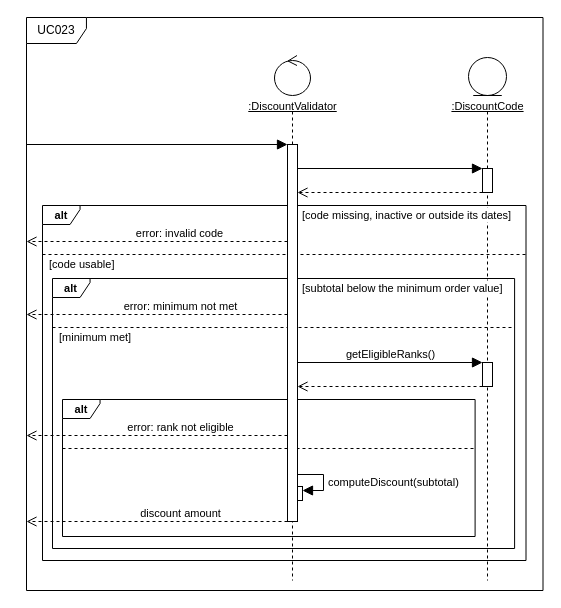
Image size: 561x608. Some labels were removed from this diagram. Here are the shapes that lost their labels. From the top down, the centre of each, then its label:
At (x=179, y=135): "validate(code, customer, subtotal)".
At (x=389, y=159): "findByCode(code)".
At (x=389, y=183): "code | null".
At (x=390, y=377): "ranks".
At (x=187, y=408): "[rank of the member not eligible]".
At (x=142, y=457): "[no ranks set or rank eligible]".
